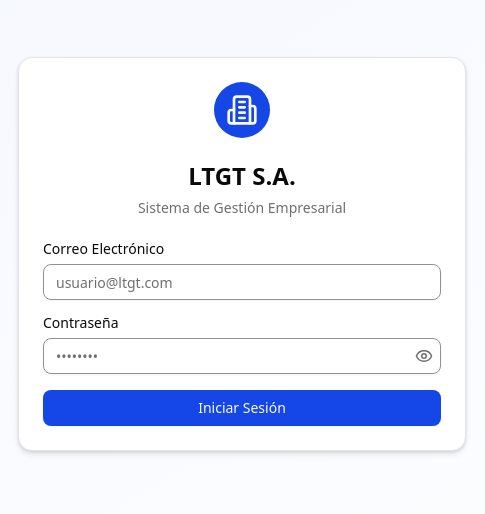
Scenario: LoginForm › shows the lockout message when the backend answers 429
The width and height of the screenshot is (485, 514).
Type "admin@ltgt.com" into the field labelled "Correo Electrónico". click: [242, 282]
box: [43,264,441,300]
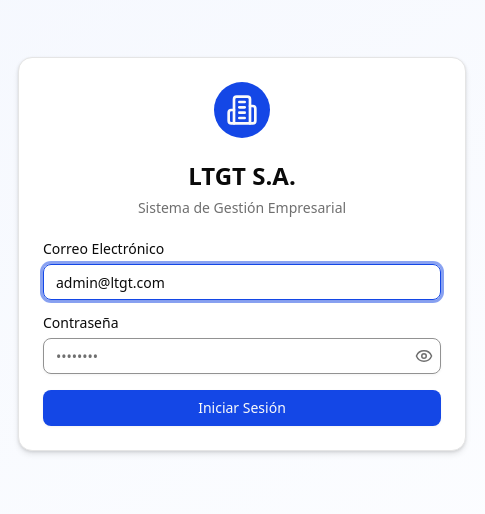
Type "secret123" into the password field labelled "Contraseña". click: [242, 356]
box: [43,338,441,374]
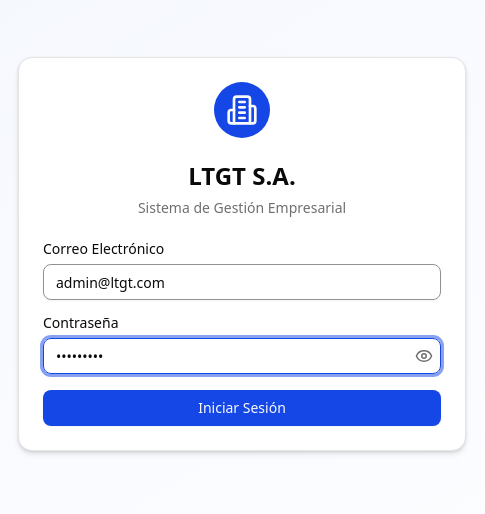
Click the button "Iniciar Sesión". click: [242, 408]
box: [43,390,441,426]
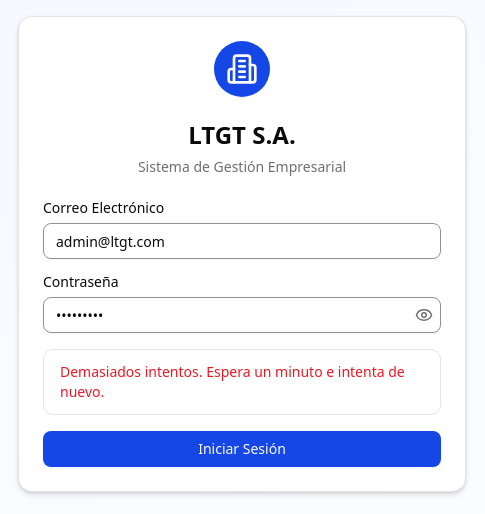
Check: the text "Demasiados intentos. Espera un minuto e intenta de nuevo." is shown, box [60,362,424,402]
